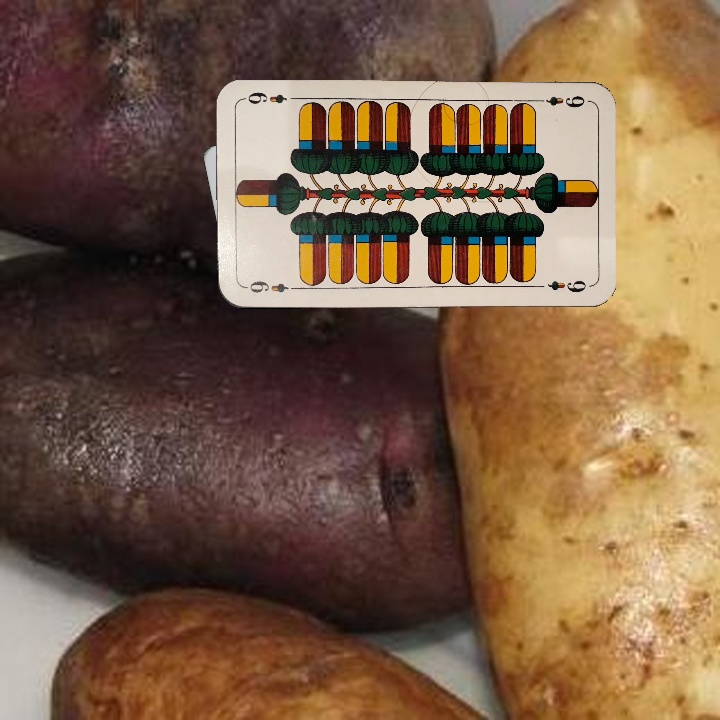E9: (241, 277, 300, 296), (530, 91, 587, 110)
